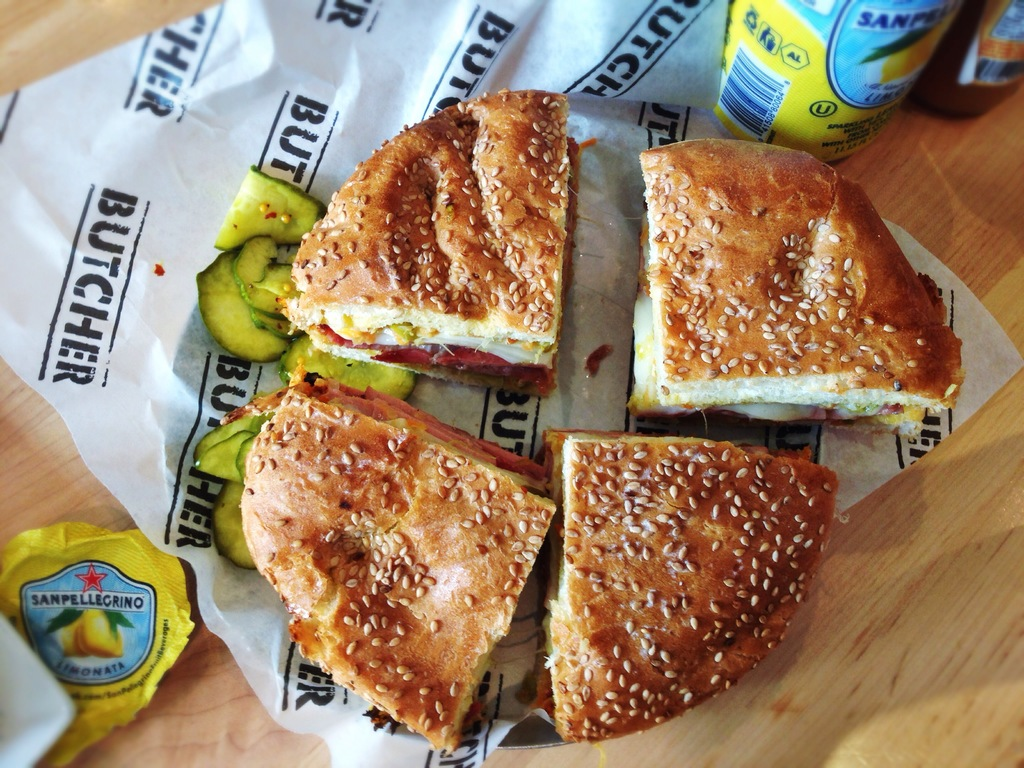sandwich: (239, 363, 557, 748), (627, 141, 963, 431), (279, 83, 575, 404), (550, 430, 843, 740)
